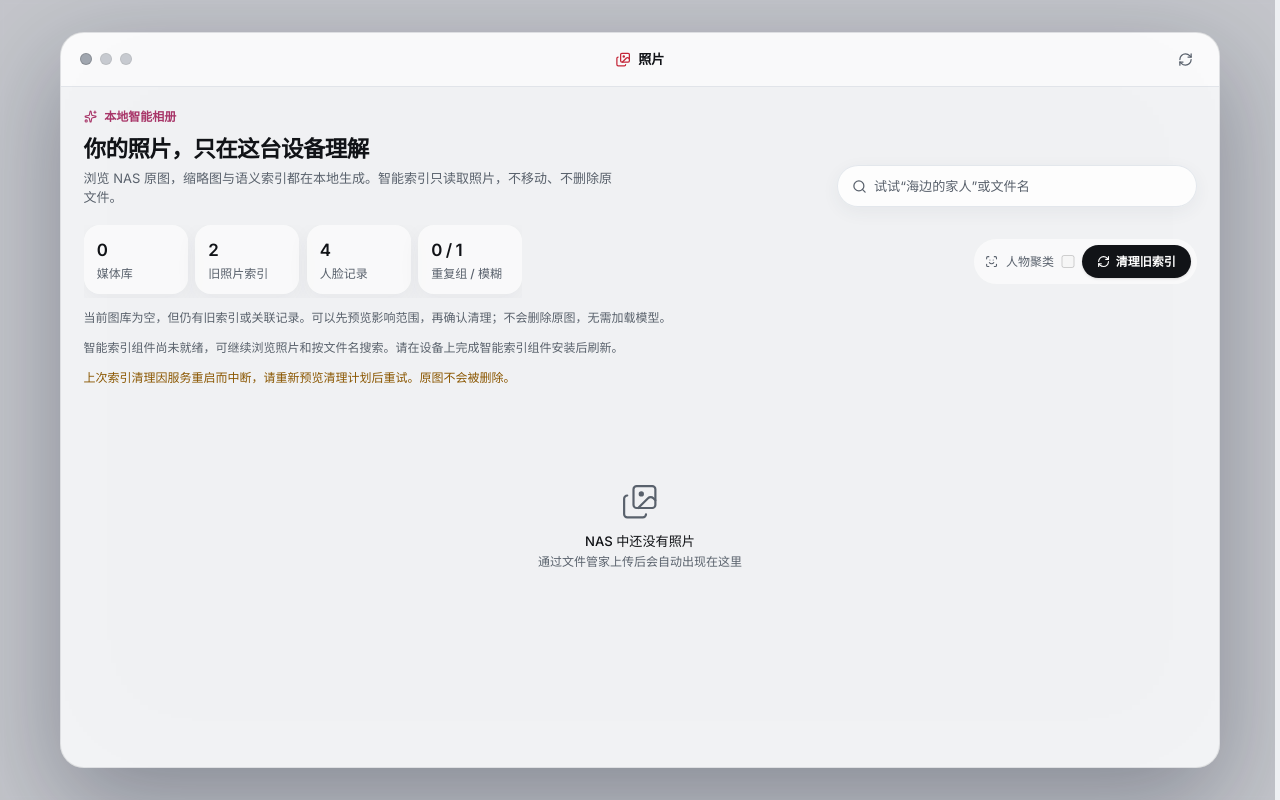
PhotosPanel › reports interrupted cleanup honestly and re-previews instead of claiming automatic recovery
Expected: the message "上次索引清理因服务重启而中断，请重新预览清理计划后重试。原图不会被删除。" is shown, [84,370,516,385]
Click the button "清理旧索引" at [1136, 262], box [1082,245,1191,278]
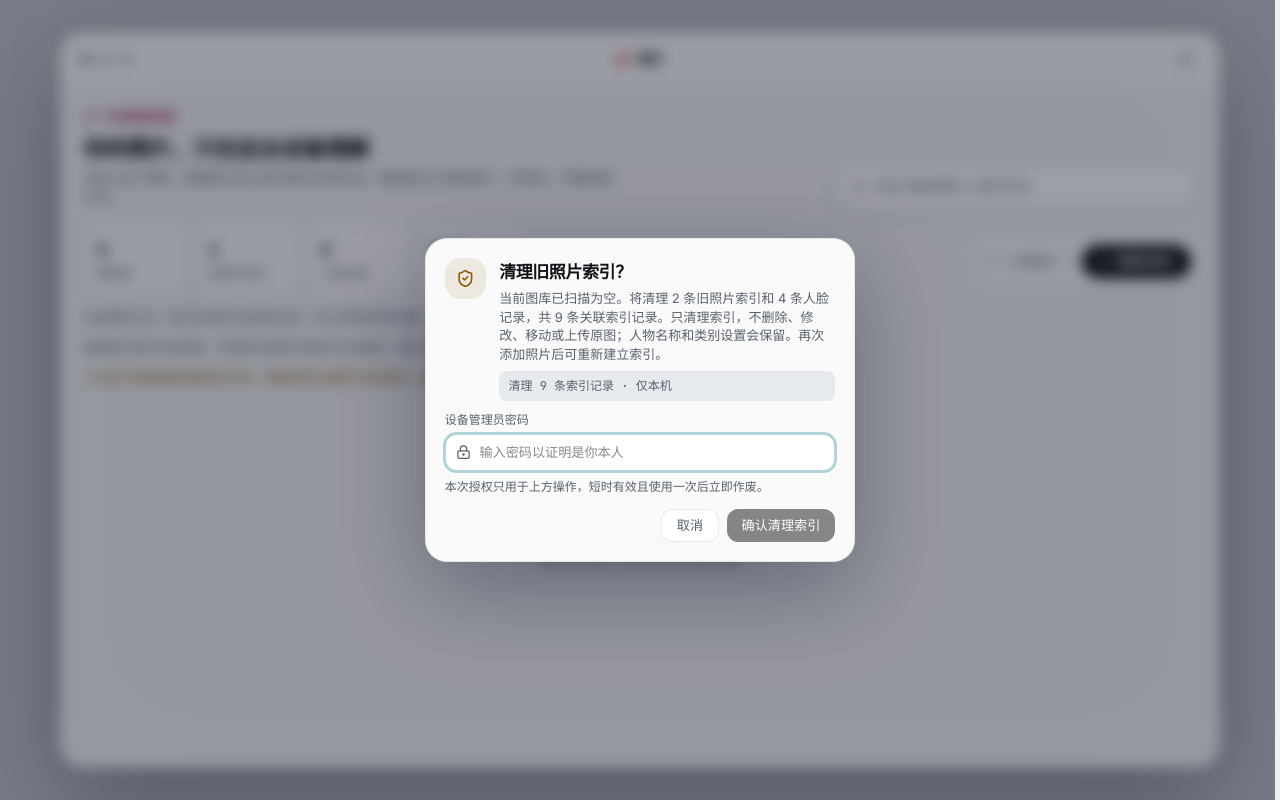
Now the dialog "清理旧照片索引？" is shown, box [425,238,855,562]
